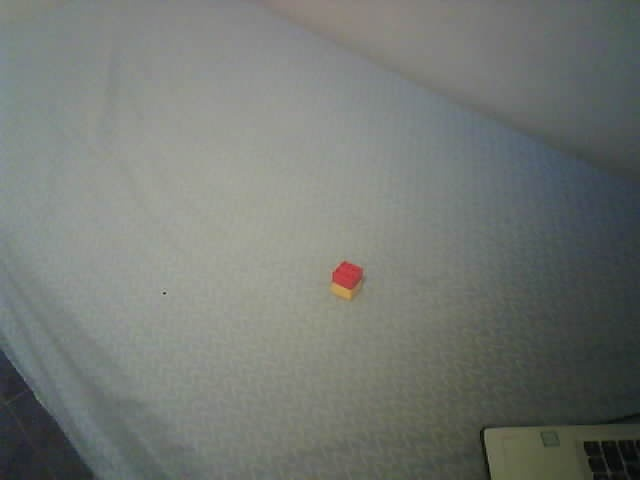lego: (329, 260, 363, 301)
